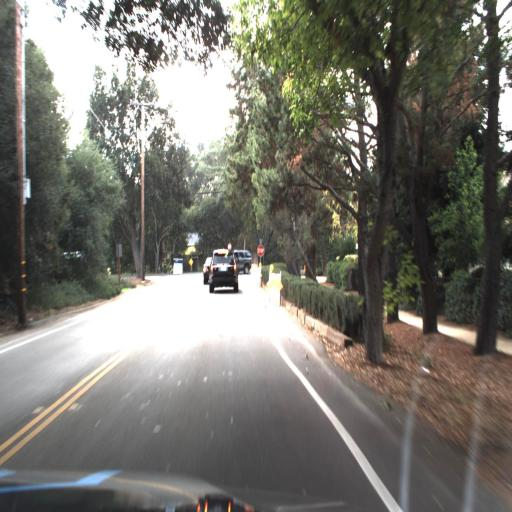car: (209, 245, 239, 296), (237, 247, 255, 276), (201, 250, 210, 287), (204, 259, 212, 282)
